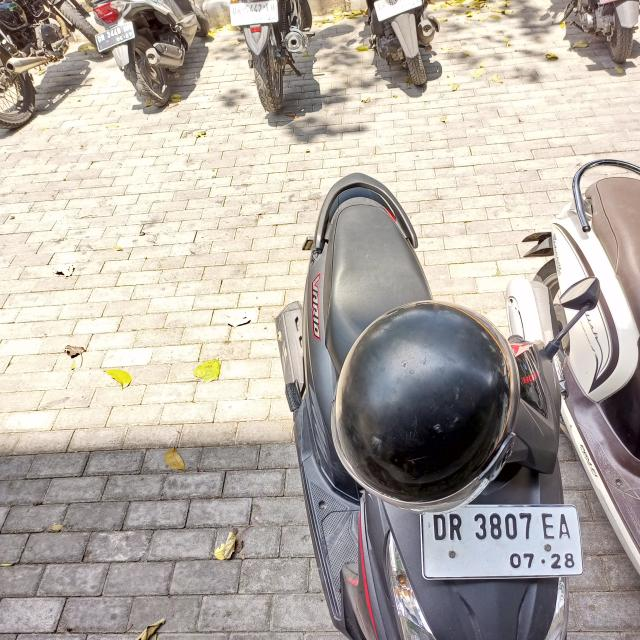plate: (418, 493, 585, 585), (94, 20, 135, 53), (228, 0, 279, 26)
